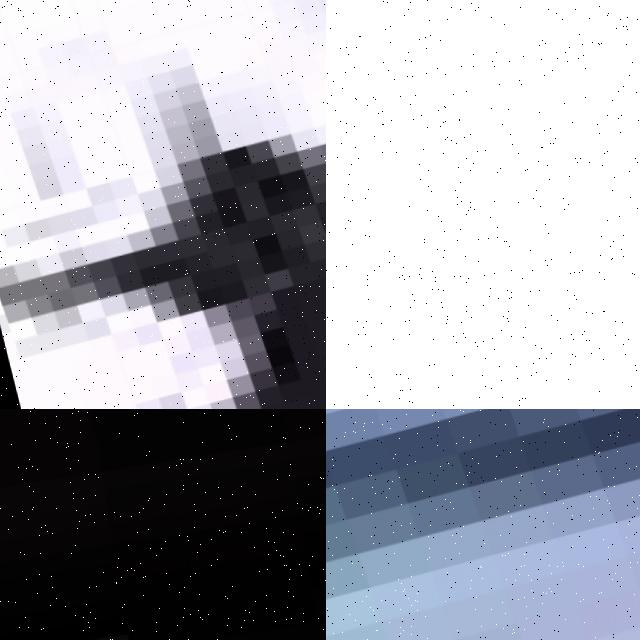0: (0, 0, 326, 409)
drone: (326, 409, 640, 640)
